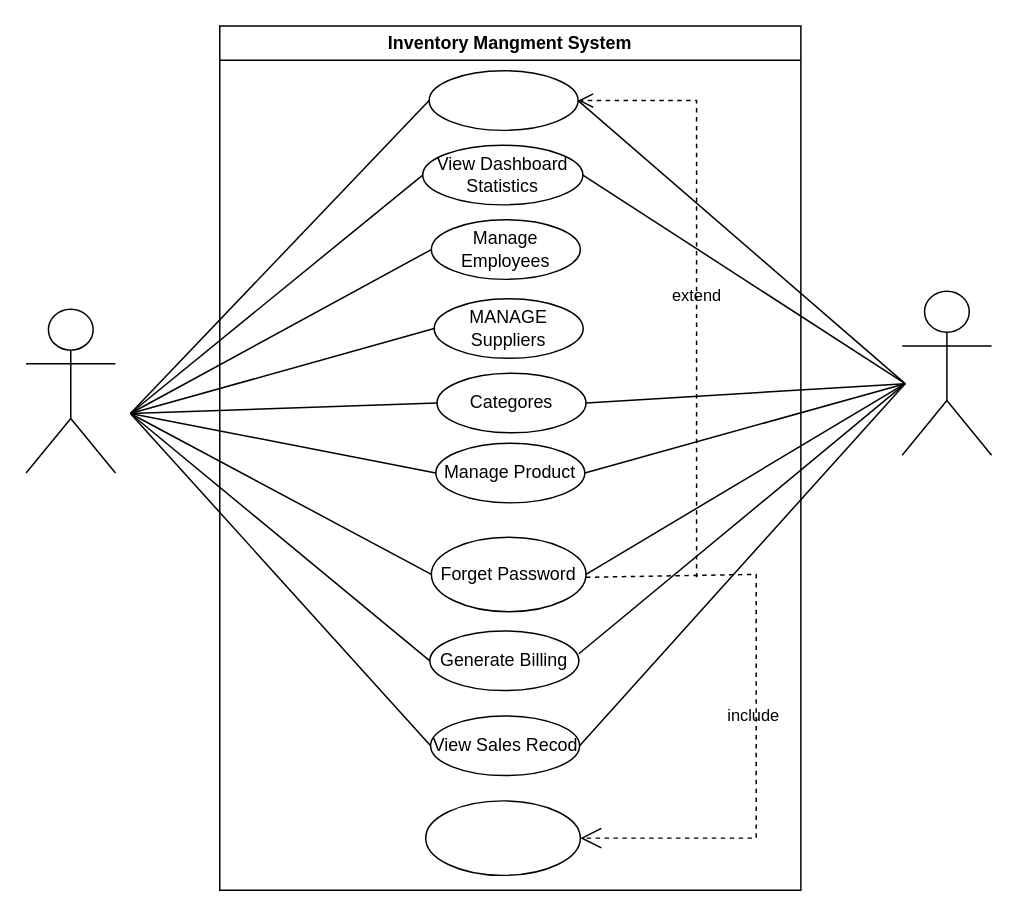
Image size: 1018x916. Some labels were removed from this diagram. Each missing label, with the box of its shape:
Admin: (25, 308, 115, 473)
Employee: (901, 290, 992, 455)
Login System: (428, 69, 578, 130)
Verify OTP (Email-based): (424, 799, 580, 875)
